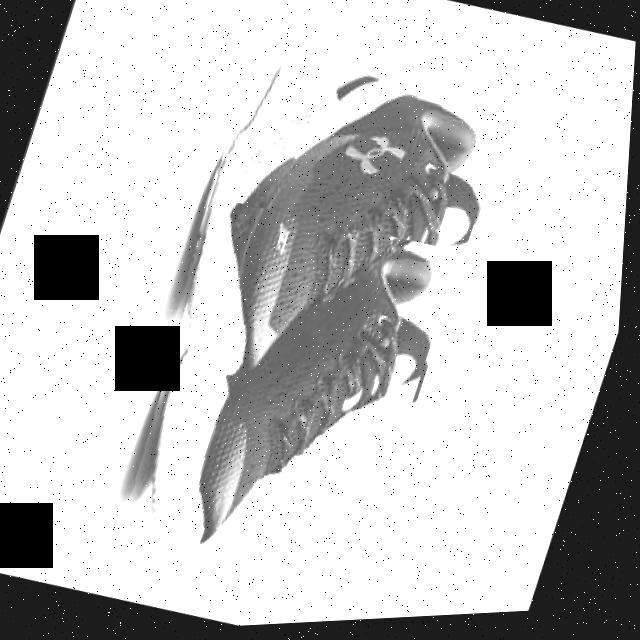shoe: (152, 16, 524, 437), (112, 191, 467, 604)
